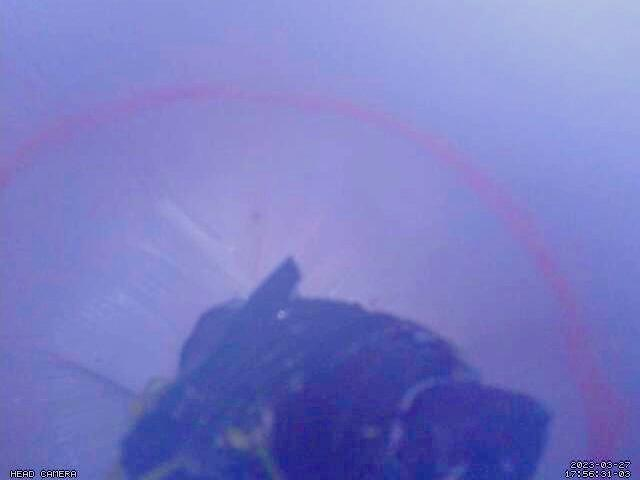head: (0, 80, 613, 480)
